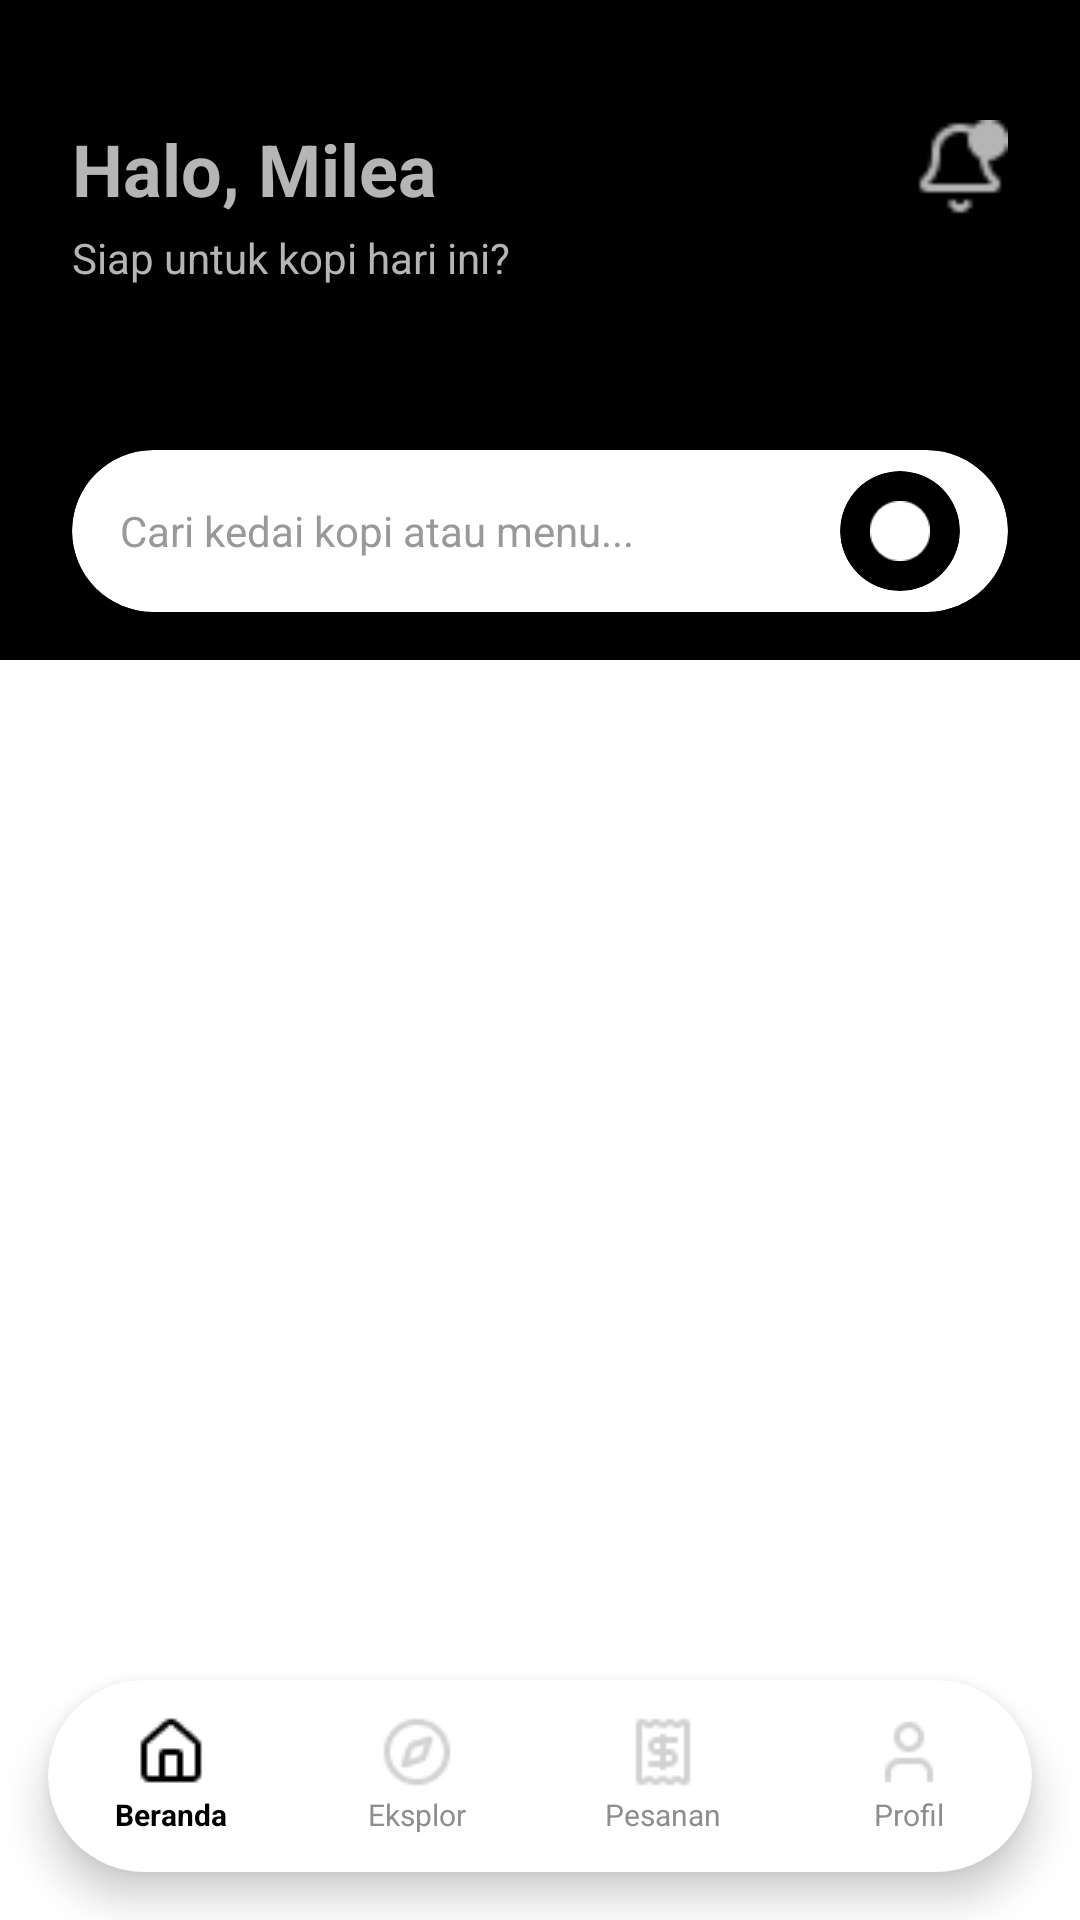

Named icons in this screenshot (1080 × 1920) and their bounding boxes, (x1, y1, x2, y2):
bell: (919, 120, 1008, 213)
nota: (636, 1719, 690, 1785)
